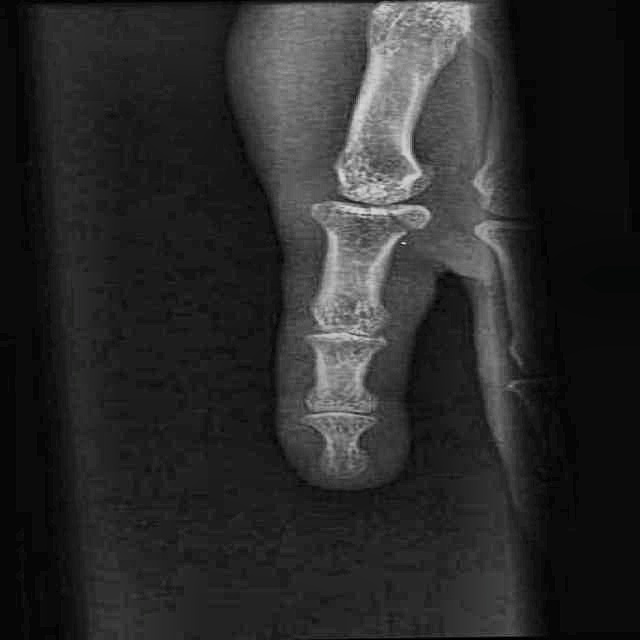Greenstick: (329, 190, 453, 247)
